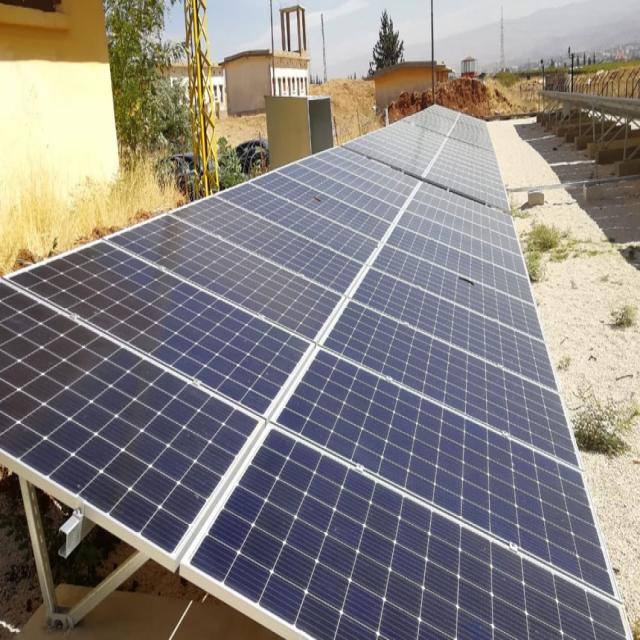clean-solar-panel: (0, 106, 629, 639)
